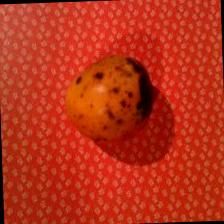Mango Overripe: (63, 53, 157, 147)
